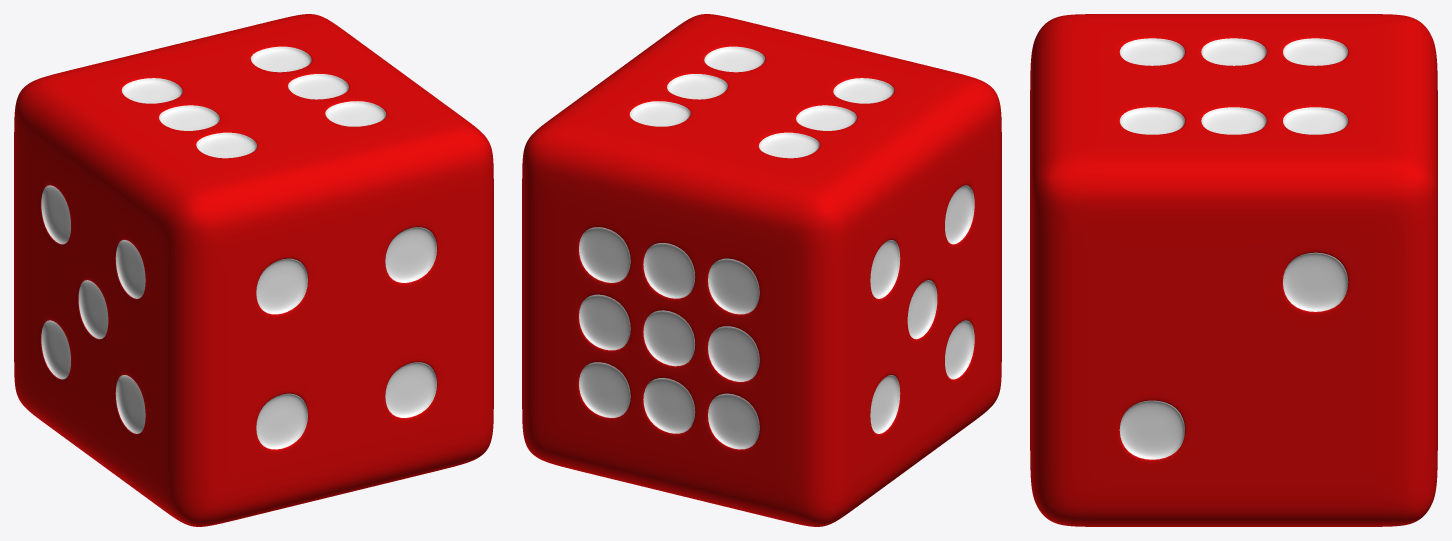
The model's file is Dice3DWith7and9.glb.
3 renders of one model, left to right at view 1: azimuth 30°, elevation 25°; view 2: azimuth 150°, elevation 25°; view 3: azimuth 270°, elevation 25°, orthographic. The views are drawn at different scales.
Parts seen in each view (by area): view 1: Cube; view 2: Cube; view 3: Cube.
Part boxes in pixels (bbox=[...]): Cube: bbox=[14, 14, 493, 526]; Cube: bbox=[522, 14, 1001, 526]; Cube: bbox=[1030, 14, 1437, 526].
Bounding box in the file's own units: 2 × 2 × 2.
